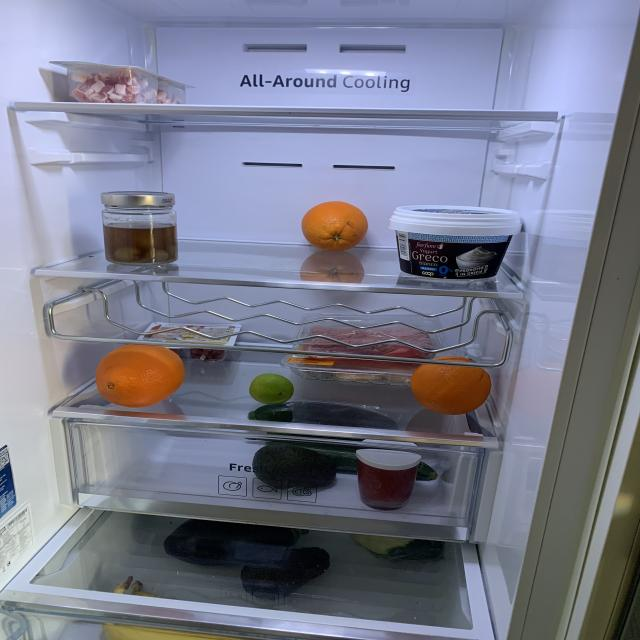aubergine: (162, 520, 310, 567)
avocado: (239, 546, 328, 598), (252, 445, 336, 487)
bacon: (67, 72, 157, 102), (190, 344, 226, 362), (156, 85, 182, 104)
banana: (101, 576, 244, 640)
chicken_breast: (320, 365, 409, 378)
courgettes: (264, 440, 438, 481), (245, 403, 398, 429), (351, 531, 449, 559)
ground_beef: (307, 325, 432, 352)
lime: (249, 373, 294, 403)
olives: (104, 222, 180, 264)
orange: (95, 343, 185, 407), (411, 356, 491, 415), (303, 201, 368, 251)
tomato_sauce: (357, 456, 418, 505)
yoghurt: (390, 206, 524, 280)
